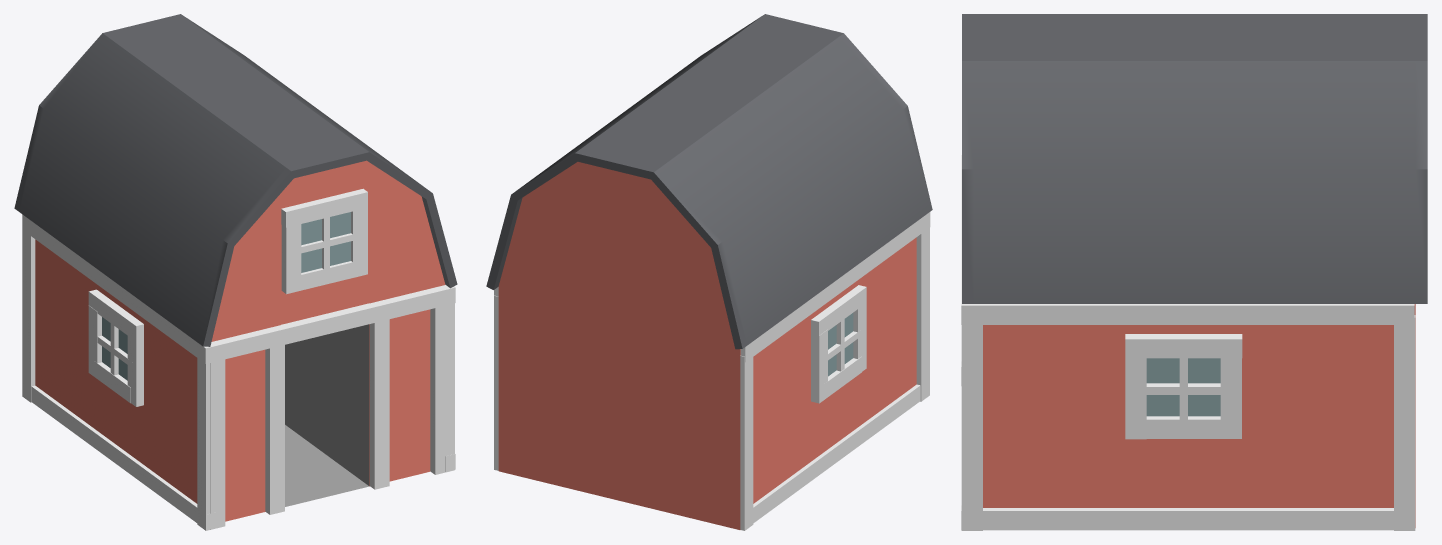
Rendered from ahir.fbx.
The picture shows the model from 3 angles, left to right: view 1: azimuth 30°, elevation 25°; view 2: azimuth 150°, elevation 25°; view 3: azimuth 270°, elevation 25°; orthographic projection. The views are drawn at different scales.
Visible parts, largest first — view 1: AhirGenel; view 2: AhirGenel; view 3: AhirGenel.
Part boxes in pixels (x1=…): AhirGenel: x1=14, y1=14, x2=457, y2=530; AhirGenel: x1=486, y1=14, x2=932, y2=530; AhirGenel: x1=961, y1=14, x2=1427, y2=530.
Bounding box in the file's own units: 17.19 × 21.69 × 21.9.
